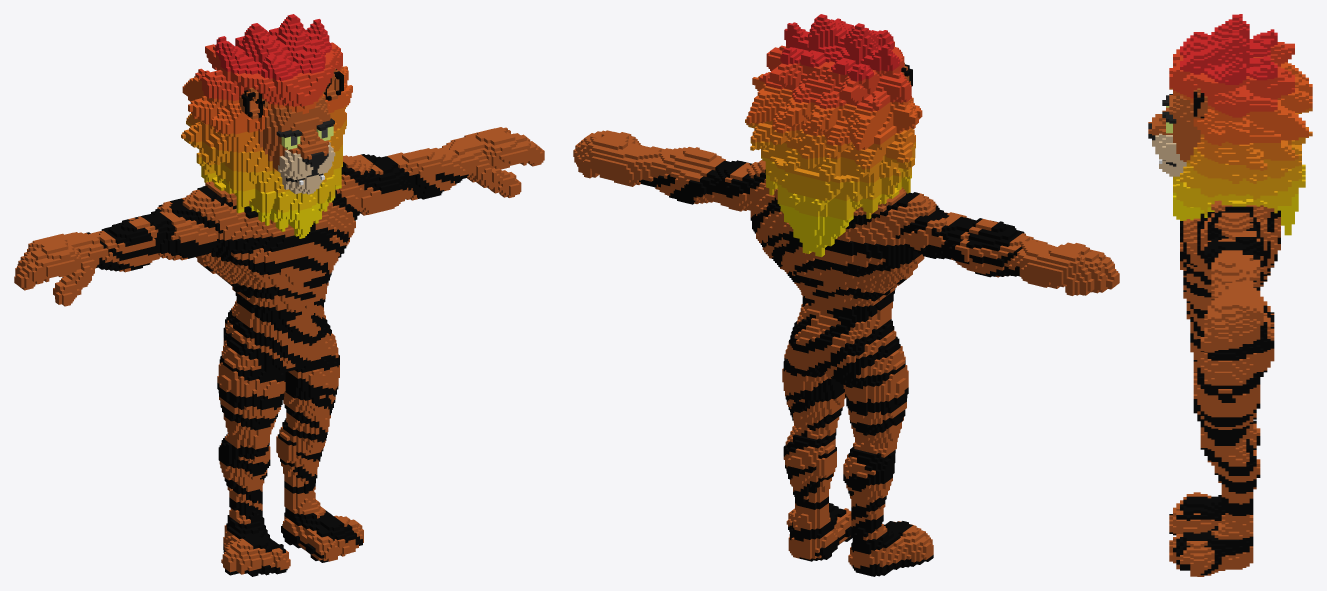
The picture shows the model from 3 angles, left to right: view 1: azimuth 30°, elevation 25°; view 2: azimuth 150°, elevation 25°; view 3: azimuth 270°, elevation 25°; orthographic projection. The views are drawn at different scales.
Parts seen in each view (by area): view 1: standard; view 2: standard; view 3: standard.
Part boxes in pixels (box(x1,y1,x2,y2)): standard: box(14, 14, 544, 576); standard: box(573, 14, 1119, 576); standard: box(1148, 14, 1312, 576).
Size of the model in its own units: 17.2 by 16.5 by 4.7.
Materials: 4 (4 with a texture image).
